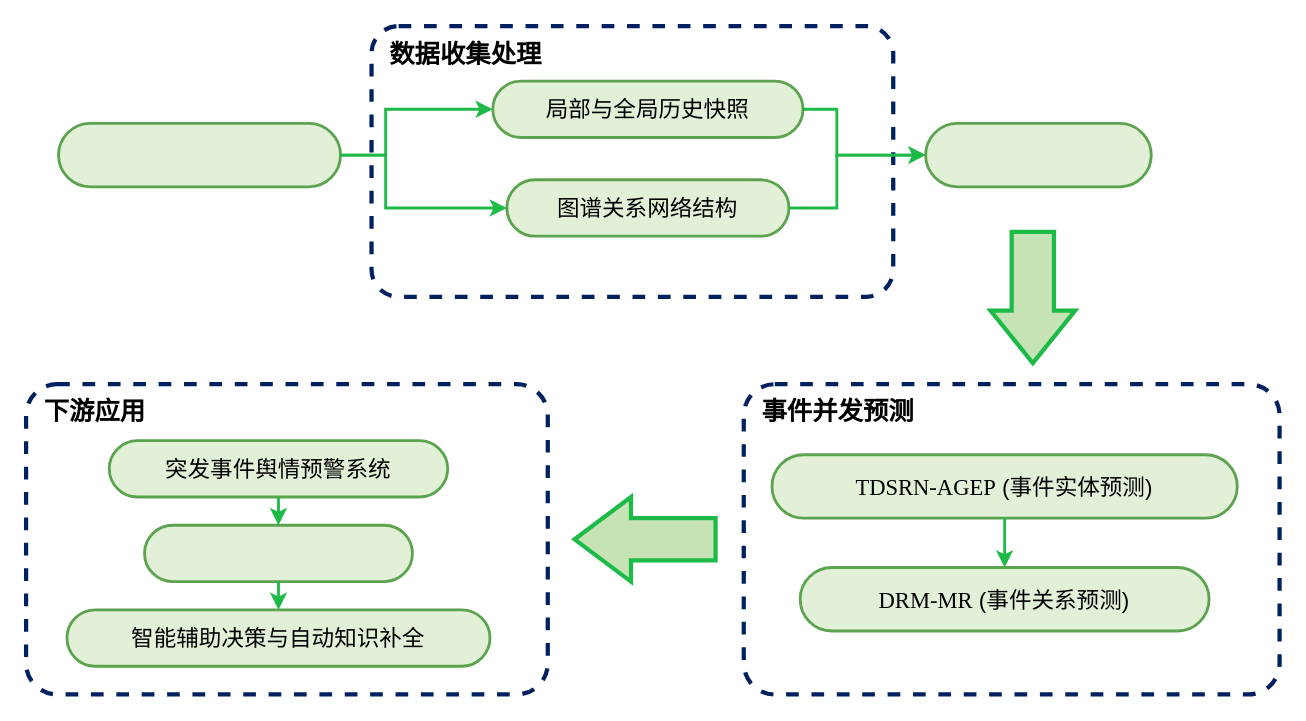
Some shapes in this 1306 by 721 pixel diagram are drawn without their labels. Here are the shapes that lost their labels. From the top down, the centre of each, then its label:
At pixel 198 154: "历史数据与图谱采集".
At pixel 1038 154: "模型输入预处理".
At pixel 277 552: "动态风险管控系统".
